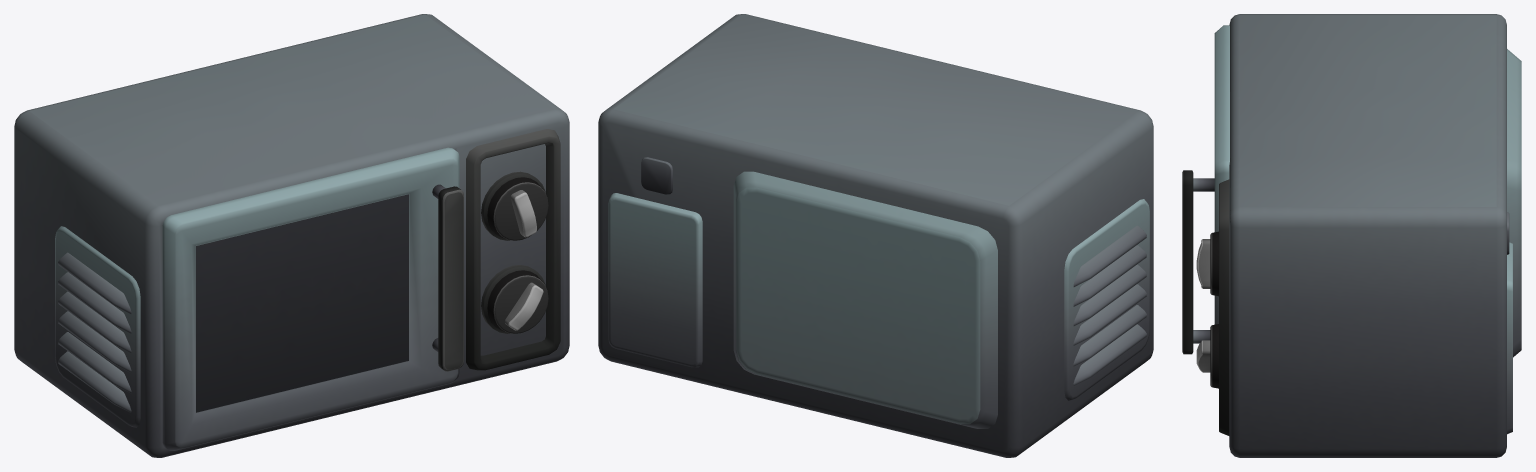
The model's file is tools_microwave.fbx.
3 views of the same model, side by side, from view 1: azimuth 30°, elevation 25°; view 2: azimuth 150°, elevation 25°; view 3: azimuth 270°, elevation 25° (orthographic).
Parts seen in each view (by area): view 1: tools_microwave, tools_microwave door; view 2: tools_microwave; view 3: tools_microwave, tools_microwave door.
Part boxes in pixels (bbox=[...]): tools_microwave: bbox=[14, 14, 569, 457]; tools_microwave door: bbox=[162, 147, 463, 450]; tools_microwave: bbox=[598, 14, 1153, 457]; tools_microwave: bbox=[1196, 14, 1521, 457]; tools_microwave door: bbox=[1182, 25, 1229, 354].
Size of the model in its own units: 38.7 by 21.33 by 26.32.
